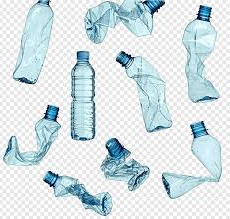plastic water bottle: (160, 118, 224, 201), (116, 49, 174, 135), (179, 2, 222, 105), (79, 1, 166, 46), (4, 101, 63, 167), (11, 1, 55, 87), (39, 169, 114, 217), (99, 134, 153, 195), (66, 48, 99, 143)
